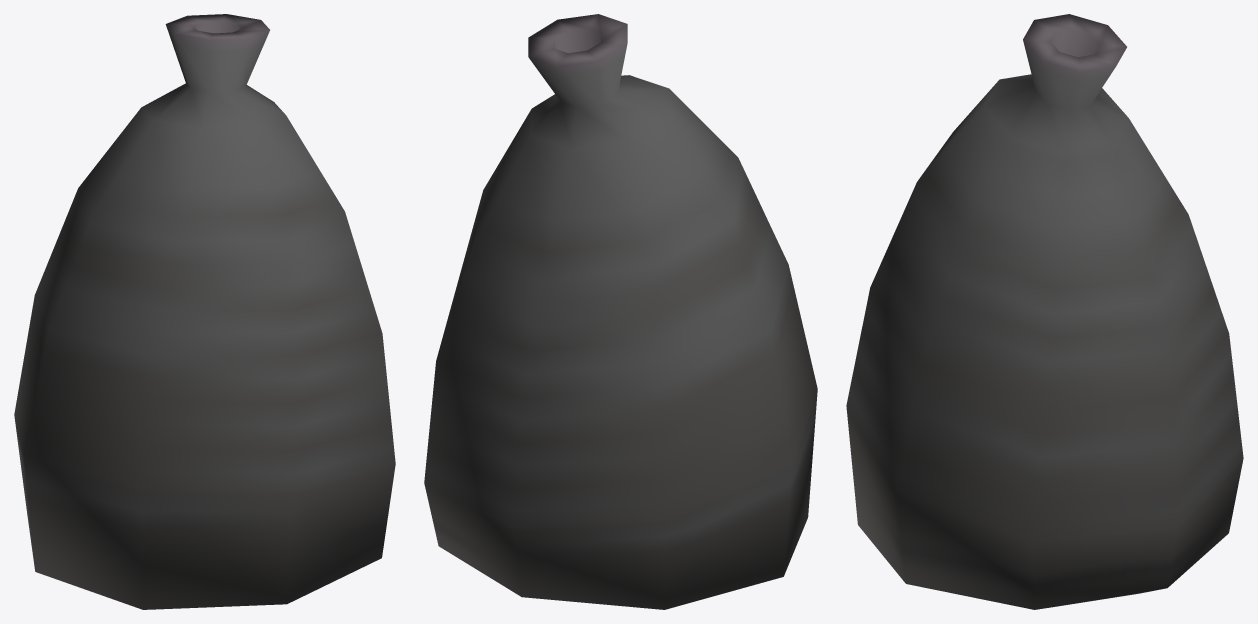
Rendered from bigRubbishBag.glb.
The picture shows the model from 3 angles, left to right: view 1: azimuth 30°, elevation 25°; view 2: azimuth 150°, elevation 25°; view 3: azimuth 270°, elevation 25°; orthographic projection. The views are drawn at different scales.
Visible parts, largest first — view 1: GarbageBag.002; view 2: GarbageBag.002; view 3: GarbageBag.002.
Boxes of the visible parts, bbox=[...] form: GarbageBag.002: bbox=[14, 14, 395, 609]; GarbageBag.002: bbox=[424, 14, 817, 609]; GarbageBag.002: bbox=[846, 14, 1243, 609].
Bounding box in the file's own units: 0.7091 × 1 × 0.6829.
1 material, 1 textured.
